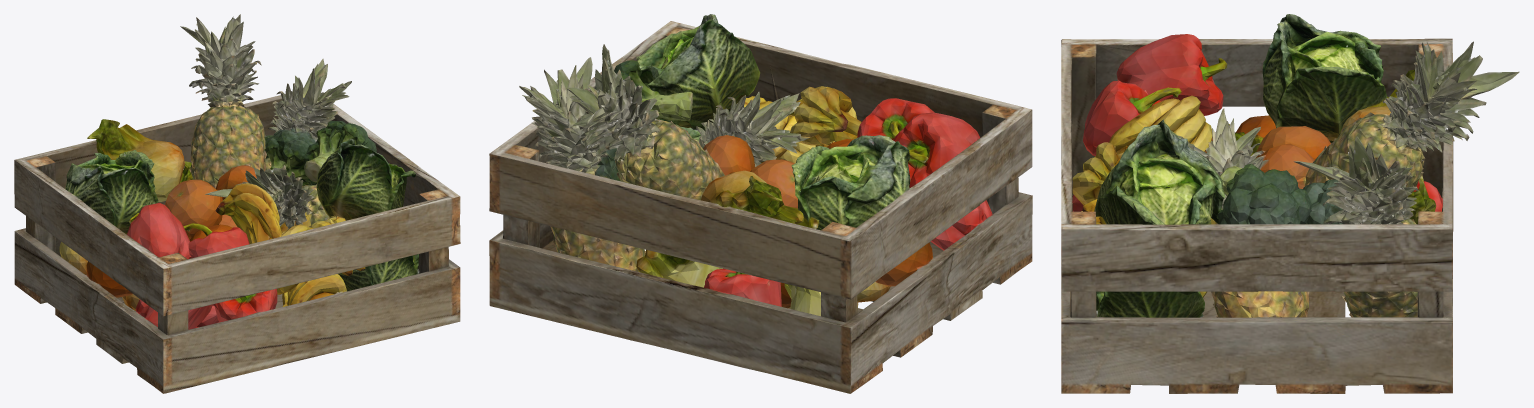
File: Cesta B1.obj
3 views of the same model, side by side, from view 1: azimuth 30°, elevation 25°; view 2: azimuth 150°, elevation 25°; view 3: azimuth 270°, elevation 25° (orthographic). The views are drawn at different scales.
Parts seen in each view (by area): view 1: Cesta_B1; view 2: Cesta_B1; view 3: Cesta_B1.
Boxes of the visible parts, x1=… form: Cesta_B1: x1=14, y1=14, x2=460, y2=393; Cesta_B1: x1=489, y1=14, x2=1032, y2=393; Cesta_B1: x1=1061, y1=14, x2=1519, y2=393.
Bounding box in the file's own units: 36.32 × 26.52 × 36.9.
